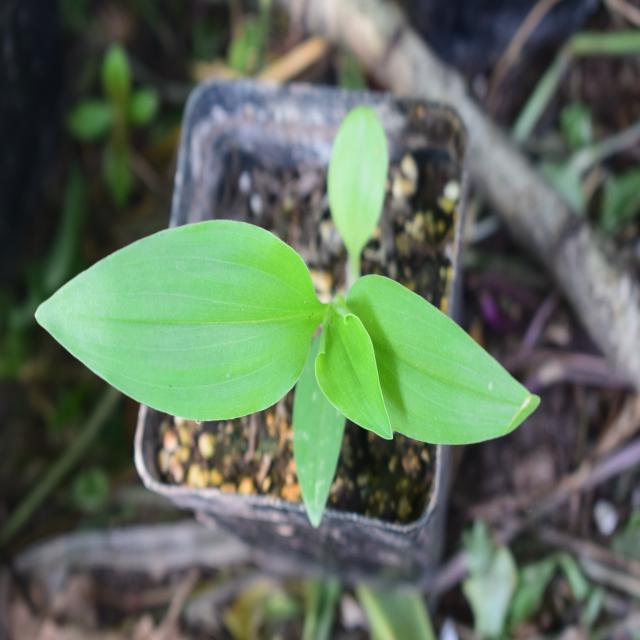Common Dayflower: (39, 202, 538, 495)
